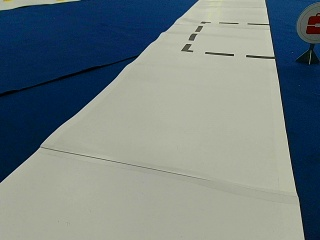company: (296, 2, 319, 42)
